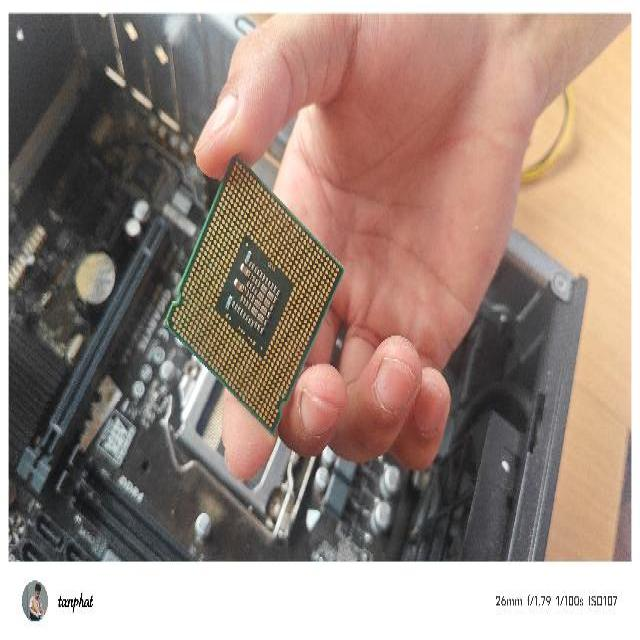CPU: (161, 150, 347, 440)
